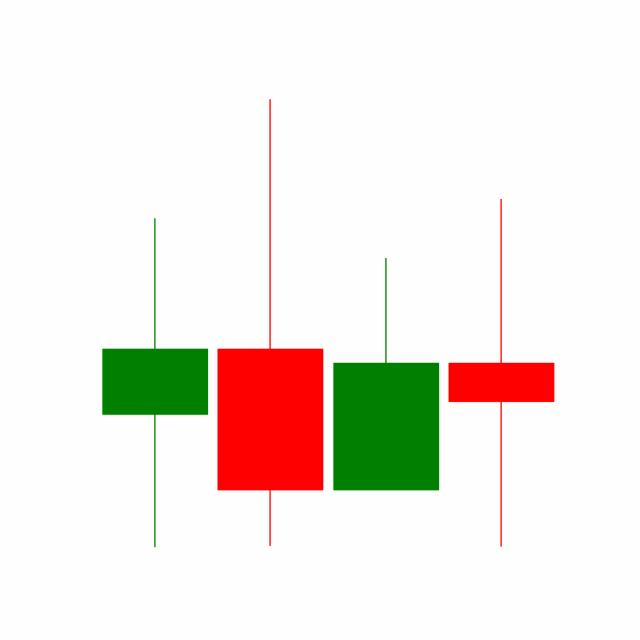Spinning Top: (443, 194, 559, 550)
